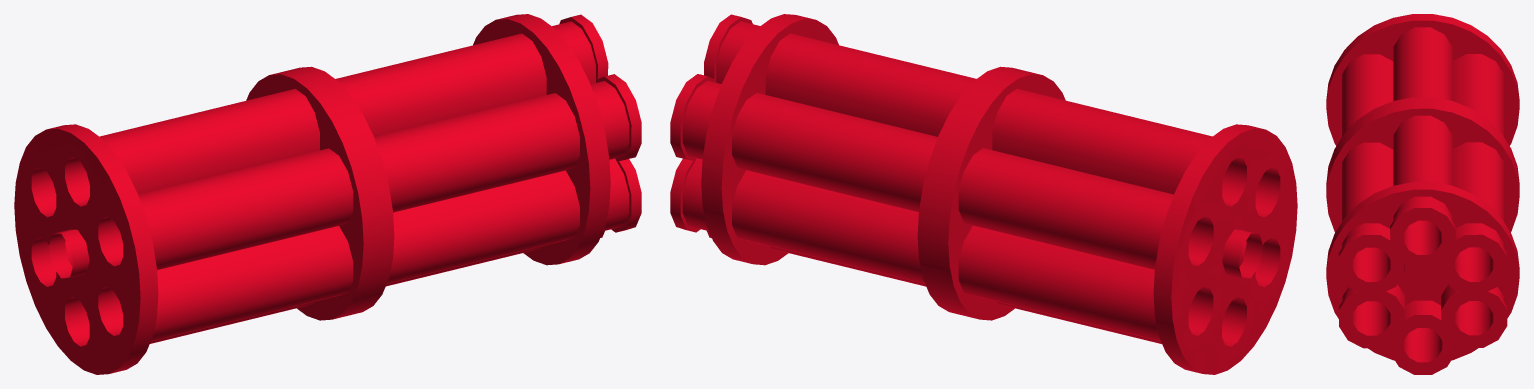
The model's file is Barrel.fbx.
3 views of the same model, side by side, from view 1: azimuth 30°, elevation 25°; view 2: azimuth 150°, elevation 25°; view 3: azimuth 270°, elevation 25° (orthographic). The views are drawn at different scales.
Parts seen in each view (by area): view 1: Barrel; view 2: Barrel; view 3: Barrel.
Boxes of the visible parts, bbox=[...] form: Barrel: bbox=[14, 14, 641, 374]; Barrel: bbox=[670, 14, 1297, 374]; Barrel: bbox=[1326, 14, 1519, 374].
Size of the model in its own units: 4.03 by 1.67 by 1.68.
